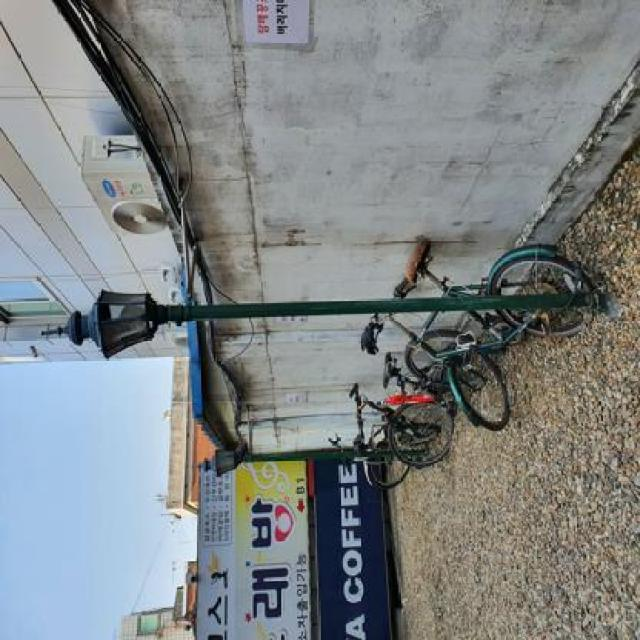pole: (28, 272, 622, 366)
